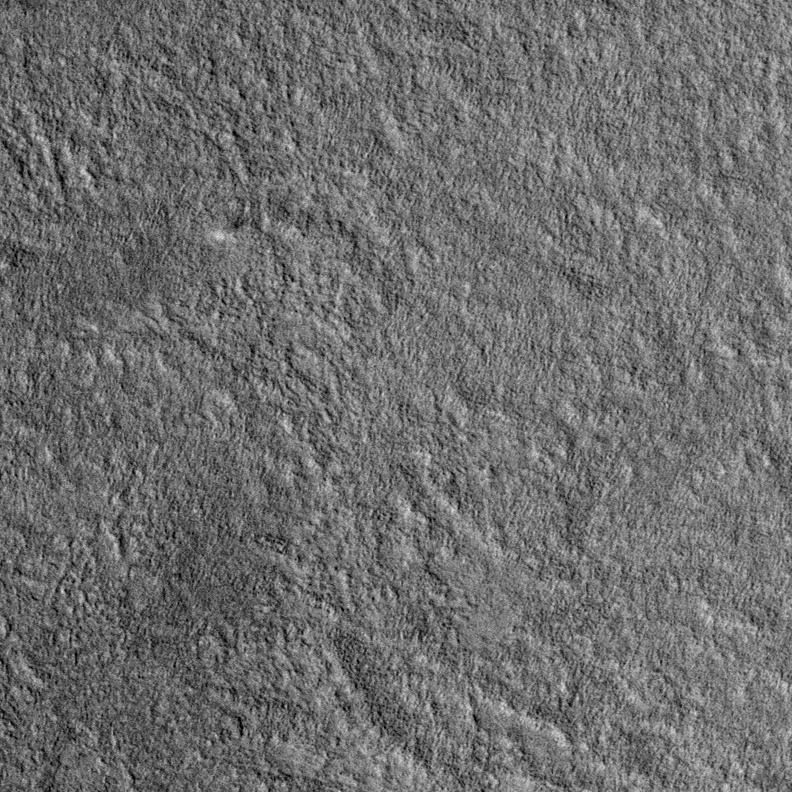dust_devil: (208, 215, 264, 244)
